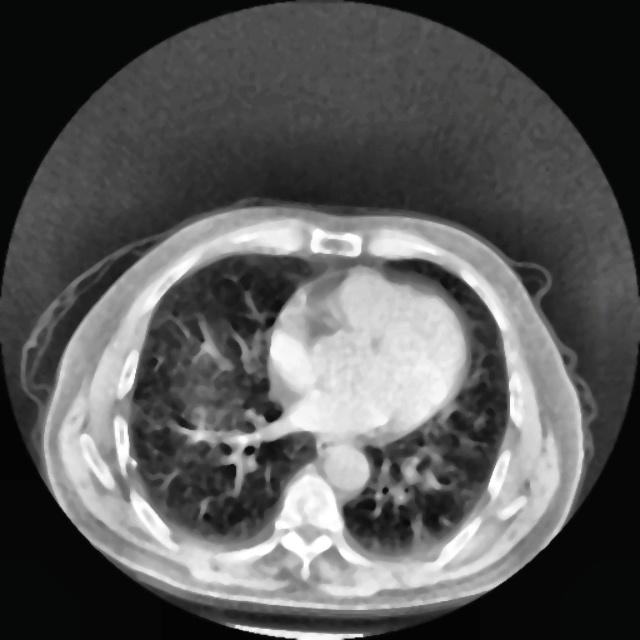covid: (20, 197, 591, 634)
